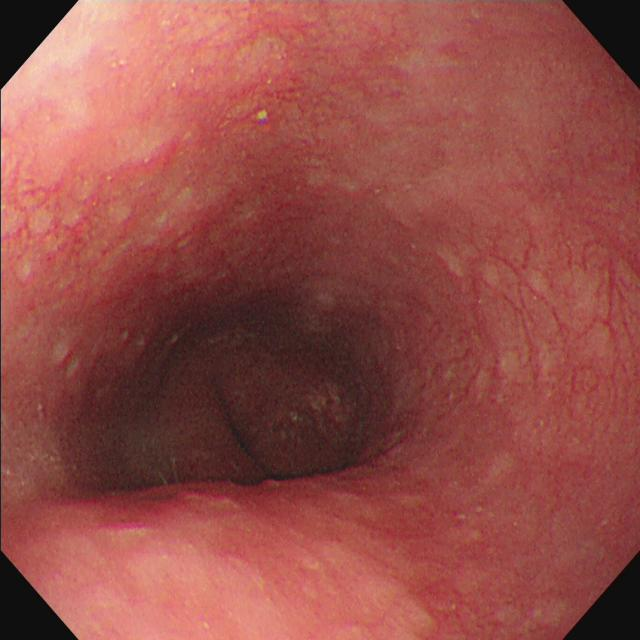I: (147, 328, 365, 478)
